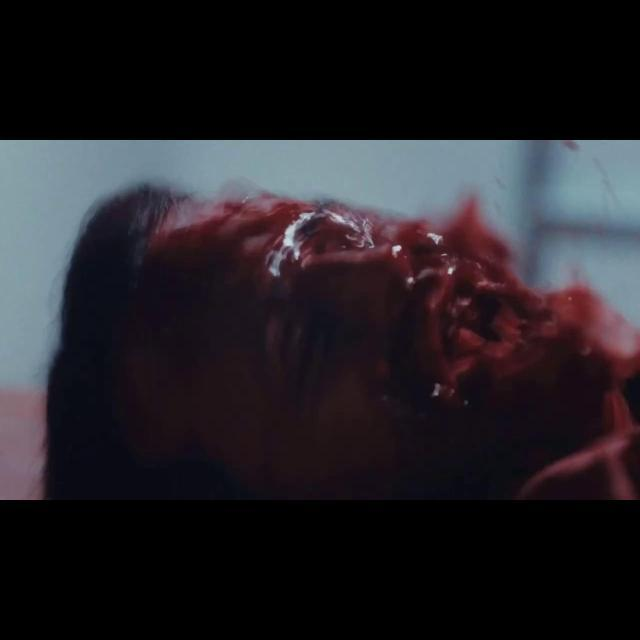blood: (140, 196, 640, 409)
